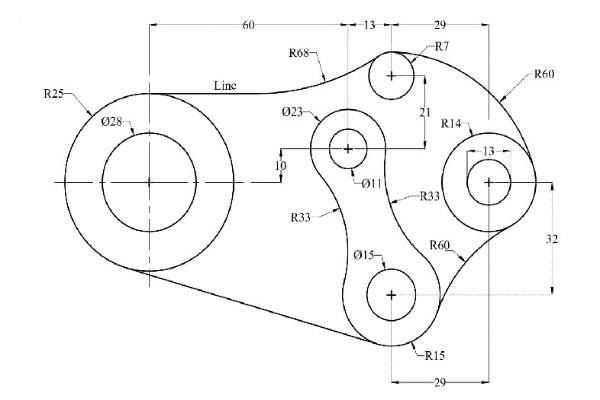dimensions: (415, 183, 441, 205), (423, 343, 448, 364), (352, 244, 378, 263), (284, 209, 313, 226), (280, 103, 307, 121), (428, 236, 455, 254), (437, 115, 464, 132), (359, 174, 382, 193), (42, 83, 66, 101), (531, 66, 555, 84), (429, 37, 452, 55), (543, 229, 564, 248), (100, 114, 125, 129), (286, 46, 312, 60), (431, 13, 448, 31), (432, 375, 449, 391), (481, 141, 497, 158), (242, 16, 257, 34), (274, 157, 290, 173), (362, 19, 376, 31), (417, 106, 432, 117)
